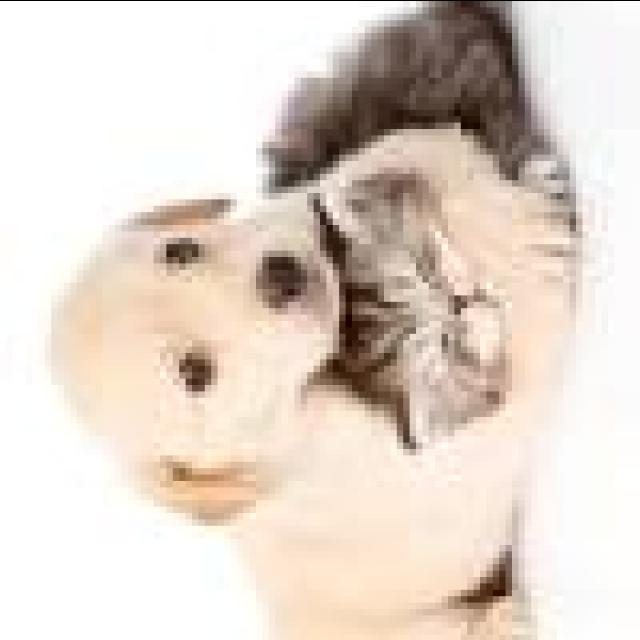cat: (334, 11, 520, 448)
dog: (32, 128, 582, 640)
